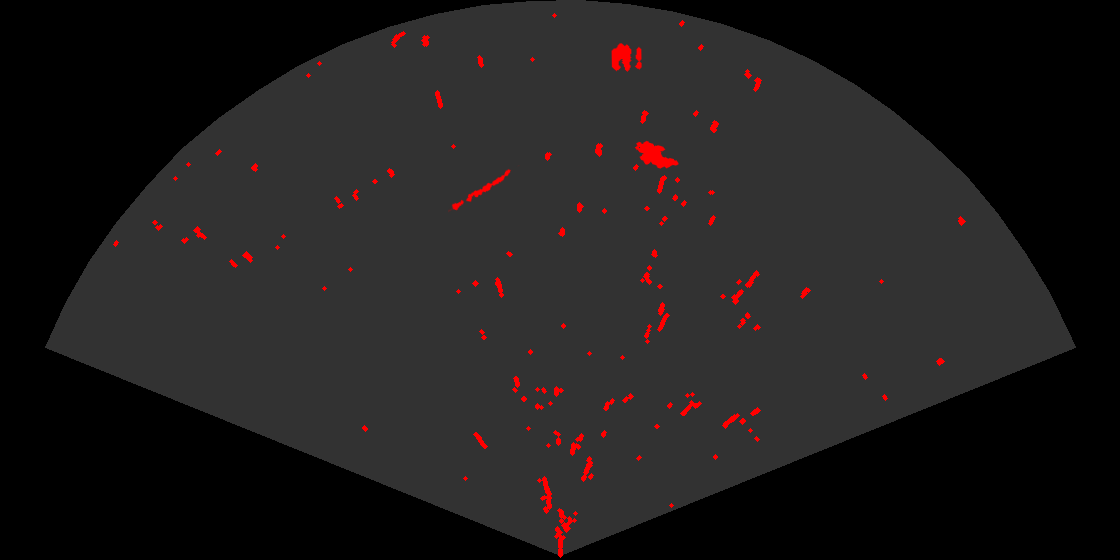AUV: (633, 139, 680, 170)
ball: (610, 42, 643, 73)
chain: (448, 165, 521, 214)
